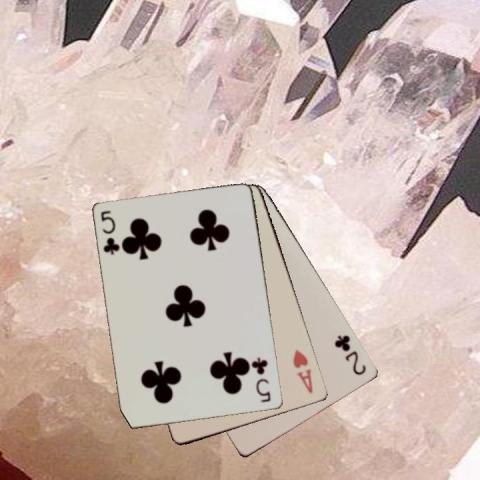2c: (331, 332, 368, 377)
5c: (98, 208, 121, 257), (250, 355, 272, 404)
Ah: (290, 347, 315, 395)
